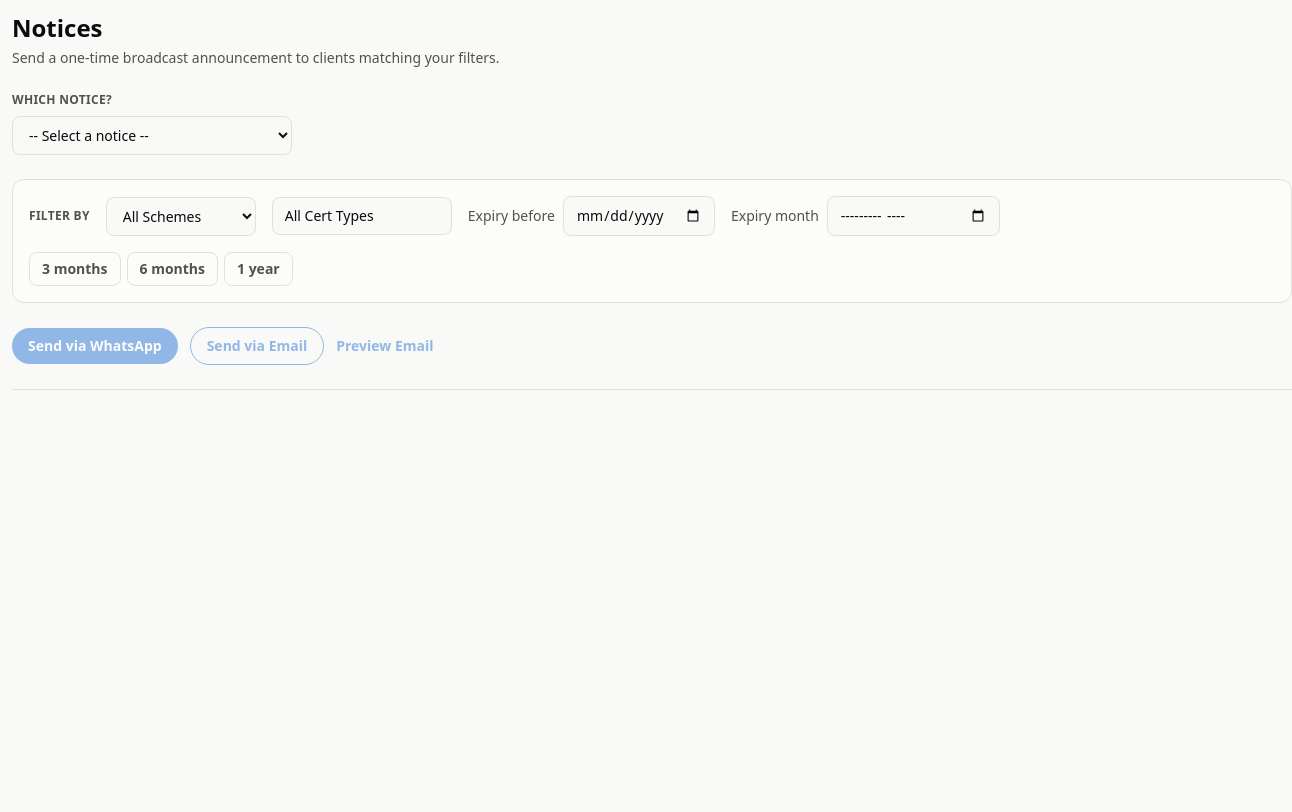
Test: NoticesView › enables the send buttons once a notice is selected
Select "Transition Facilitation Order 2026" in the dropdown named "Which notice?" at (152, 136), box [12,116,292,155]
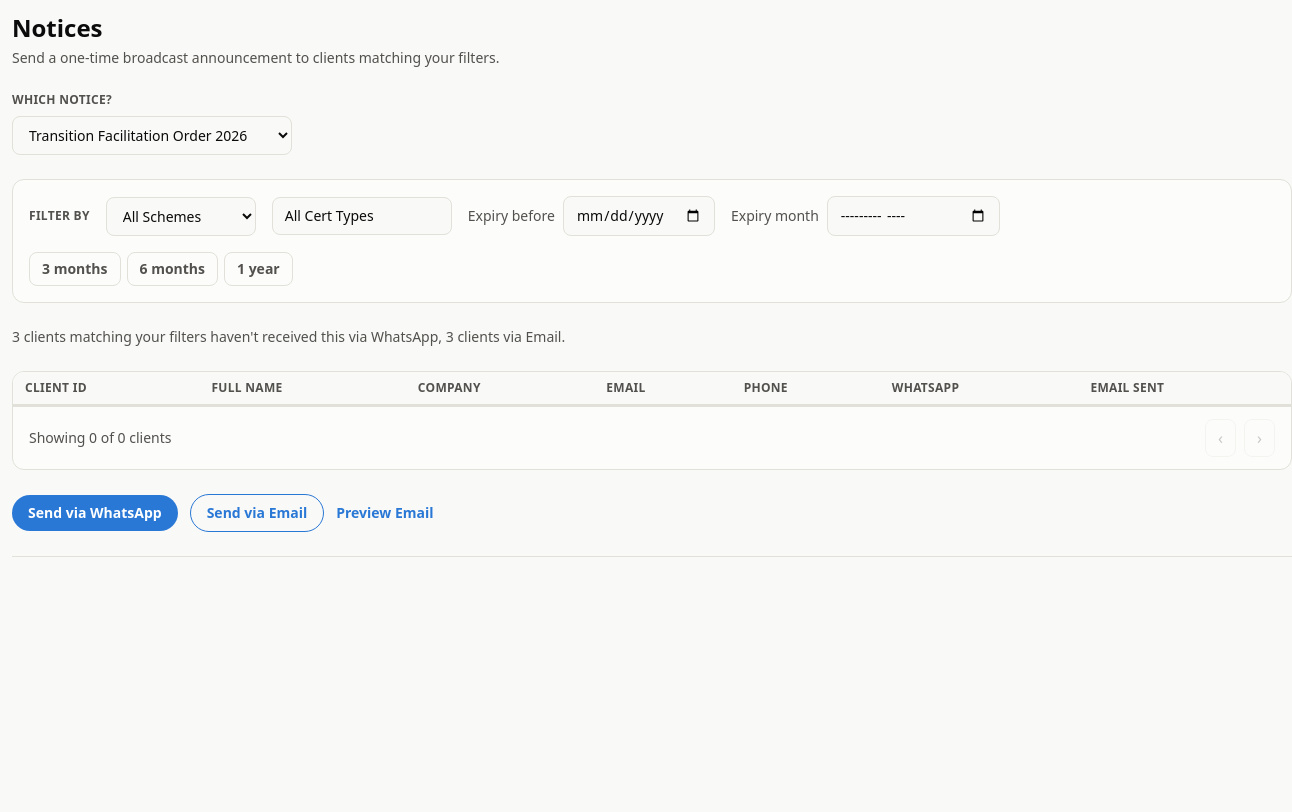
Expected: the button "Send via WhatsApp" is enabled, [12,495,178,531]
